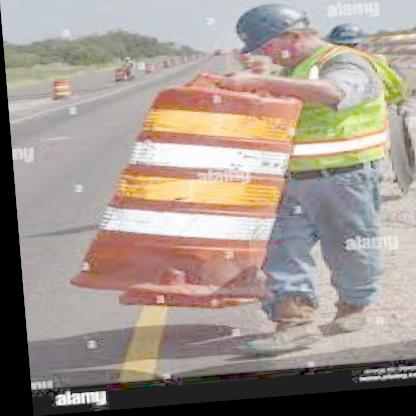obstacle: (49, 79, 313, 326)
